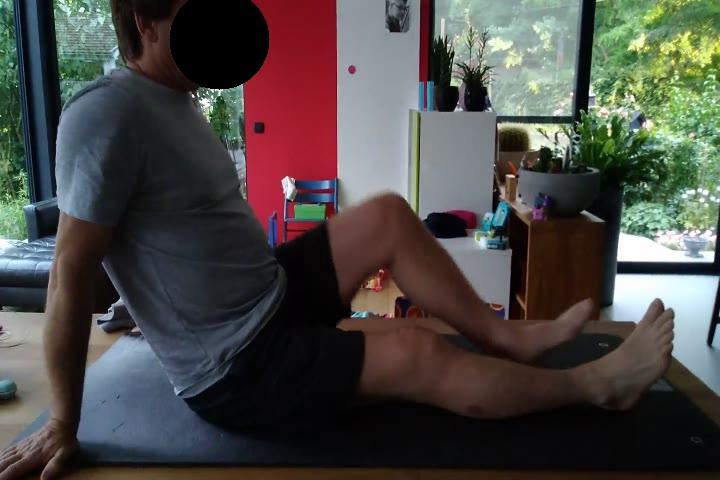lower_body: (184, 190, 677, 427)
